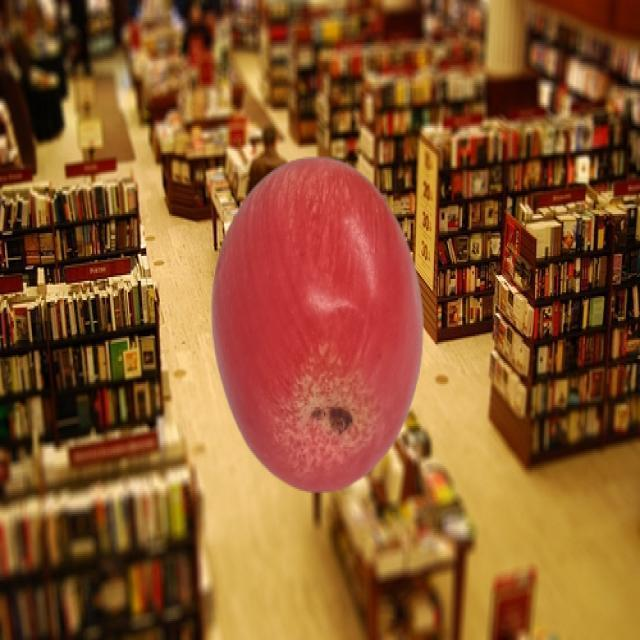apple: (211, 156, 426, 494)
